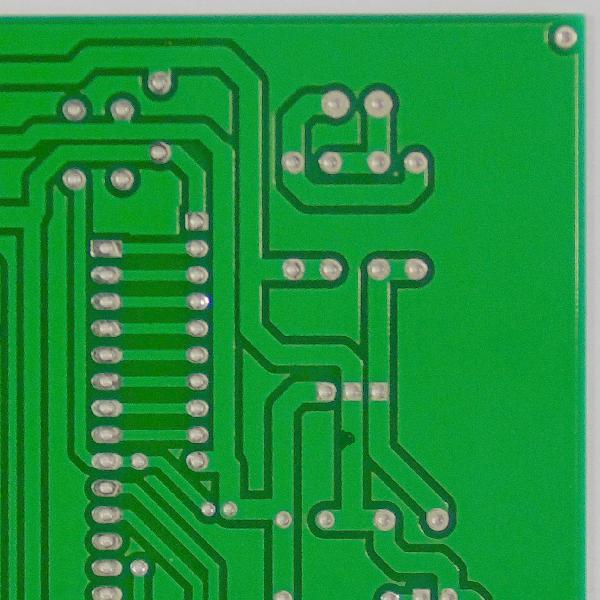mouse_bite: (340, 423, 361, 457)
